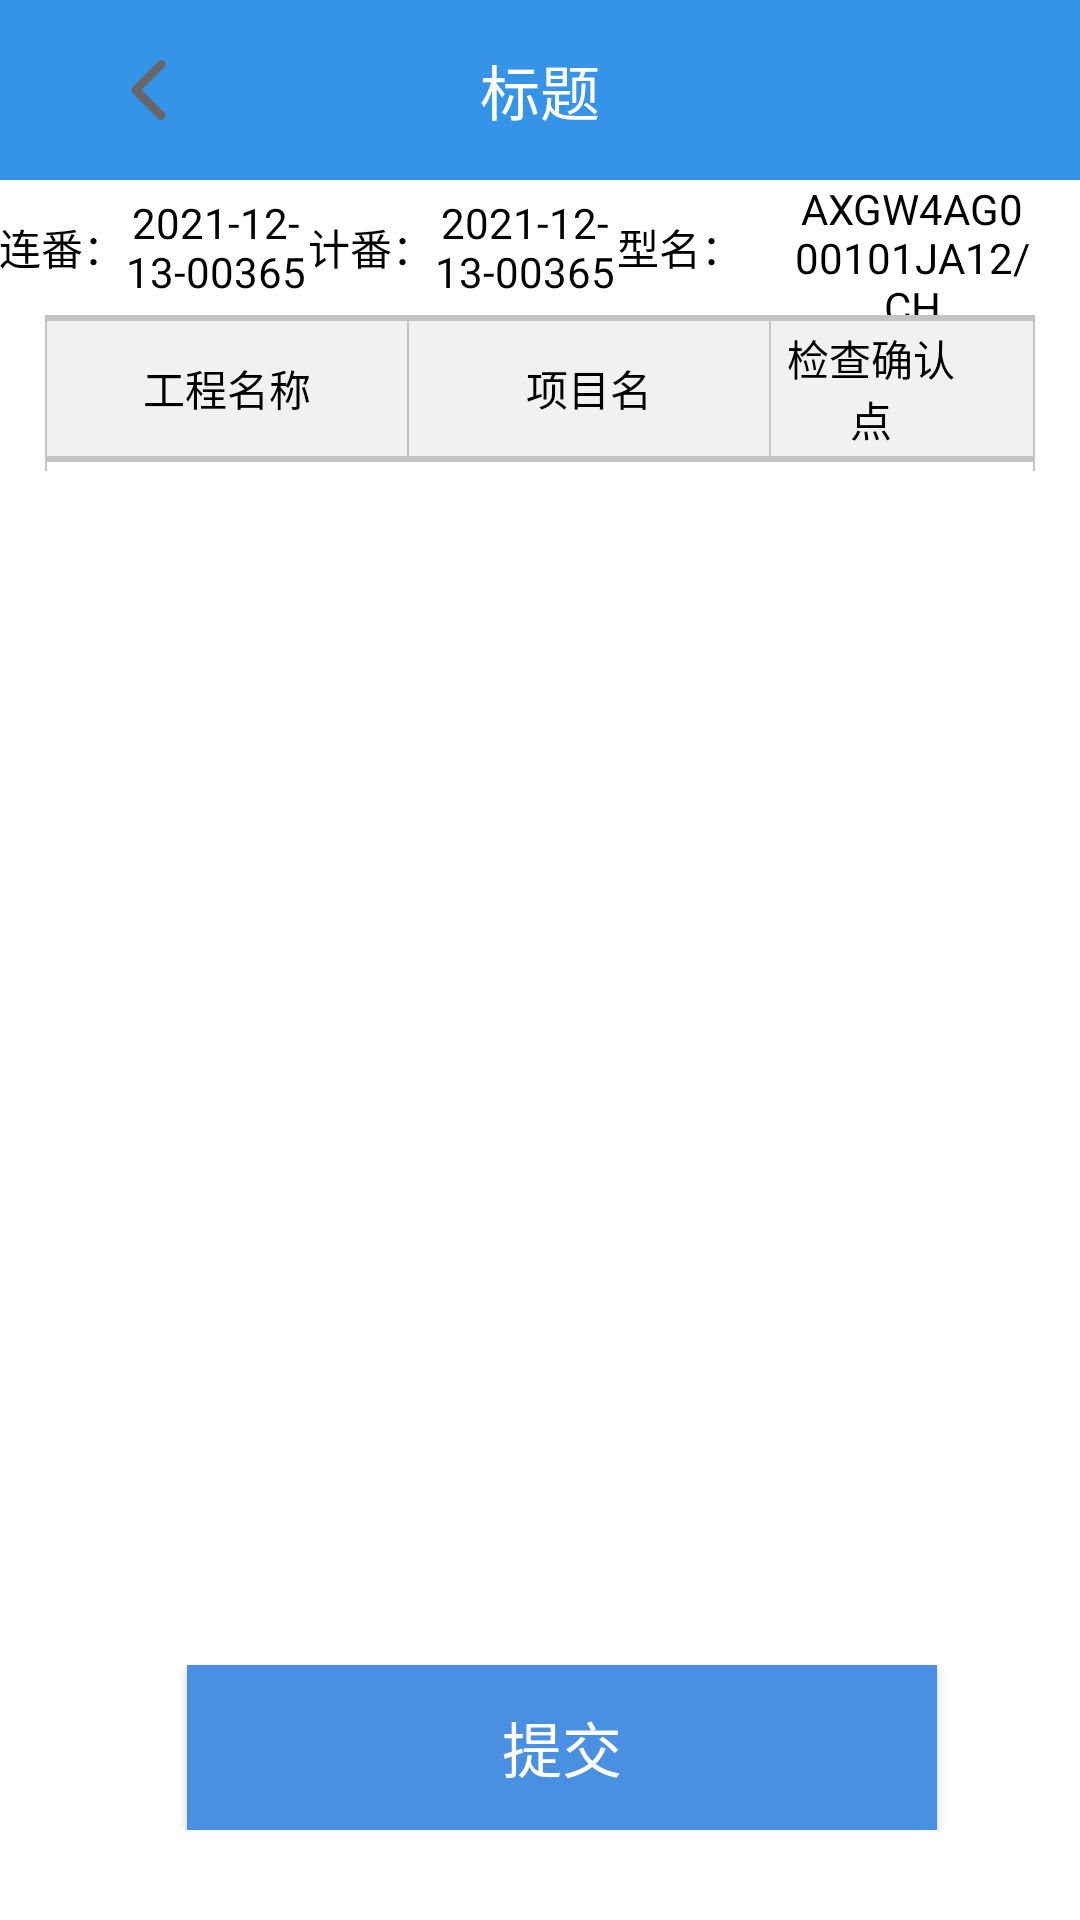

Locate icon controls on the screen. Image size 1080 x 1920, boxes as (x1, y1, x2, y2).
back: (131, 60, 166, 120)
